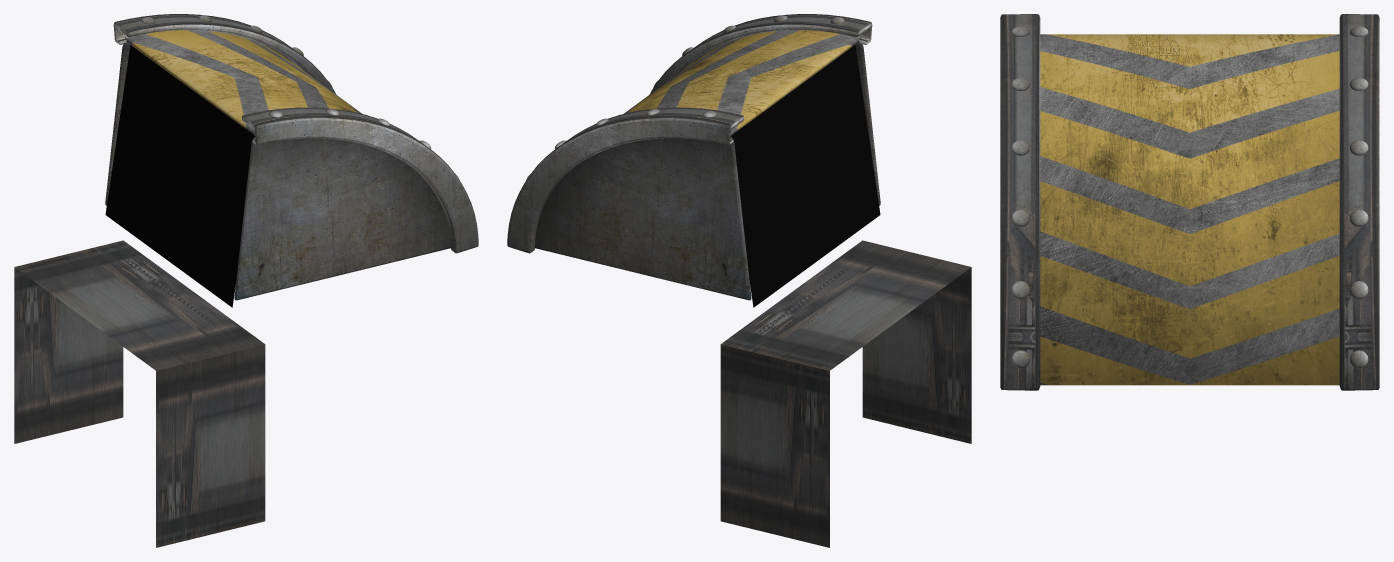
File: static.fbx
The picture shows the model from 3 angles, left to right: view 1: azimuth 30°, elevation 25°; view 2: azimuth 150°, elevation 25°; view 3: azimuth 270°, elevation 25°; orthographic projection. The views are drawn at different scales.
Visible parts, largest first — view 1: Cube, Plane, darken, Extrude_1, Extrude; view 2: Cube, Plane, darken, Extrude_1, Extrude; view 3: Extrude, Extrude_1, Sphere_4, Sphere_5, Sphere_3, Sphere_2.
Boxes of the visible parts, left/top/right/bottom form: Cube: left=14, top=240, right=265, bottom=547; Plane: left=105, top=42, right=450, bottom=300; darken: left=105, top=45, right=255, bottom=307; Extrude_1: left=113, top=14, right=478, bottom=253; Extrude: left=126, top=30, right=361, bottom=135; Cube: left=720, top=240, right=971, bottom=547; Plane: left=535, top=42, right=880, bottom=300; darken: left=730, top=45, right=880, bottom=307; Extrude_1: left=507, top=14, right=872, bottom=253; Extrude: left=624, top=30, right=859, bottom=135; Extrude: left=1040, top=34, right=1339, bottom=385; Extrude_1: left=1000, top=14, right=1379, bottom=390; Sphere_4: left=1011, top=281, right=1368, bottom=299; Sphere_5: left=1011, top=350, right=1368, bottom=368; Sphere_3: left=1011, top=209, right=1368, bottom=226; Sphere_2: left=1011, top=140, right=1368, bottom=155.
Bounding box in the file's own units: 294 × 347 × 224.
5 materials, 5 textured.
